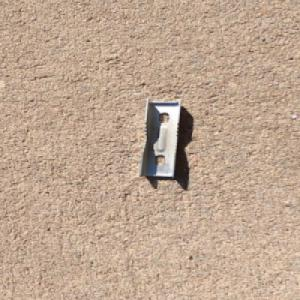ClampPart: (137, 97, 184, 179)
